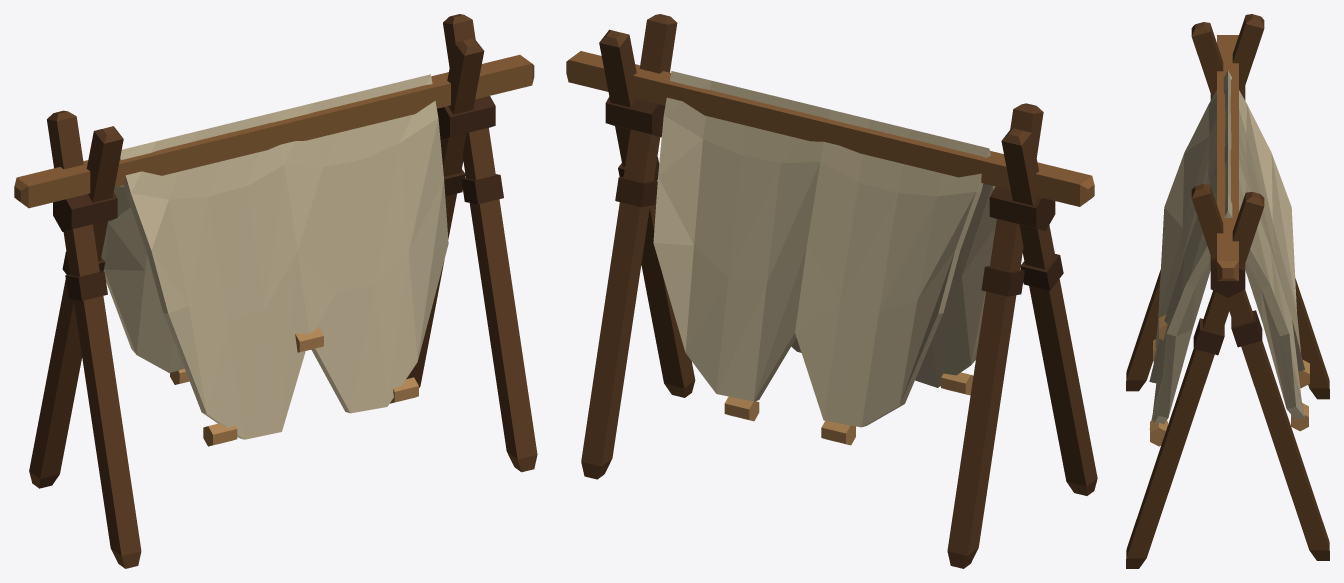
Rendered from drying-net-rack-93ec3b.glb.
The picture shows the model from 3 angles, left to right: view 1: azimuth 30°, elevation 25°; view 2: azimuth 150°, elevation 25°; view 3: azimuth 270°, elevation 25°; orthographic projection. The views are drawn at different scales.
Parts seen in each view (by area): view 1: net-mesh, rack; view 2: net-mesh, rack; view 3: rack, net-mesh.
Boxes of the visible parts, <box> form: net-mesh: <box>101,74,448,446</box>; rack: <box>14,14,537,568</box>; net-mesh: <box>653,71,996,445</box>; rack: <box>566,14,1097,568</box>; rack: <box>1126,14,1329,568</box>; net-mesh: <box>1149,71,1309,446</box>.
Bounding box in the file's own units: 2.2 × 1.66 × 0.8224.
